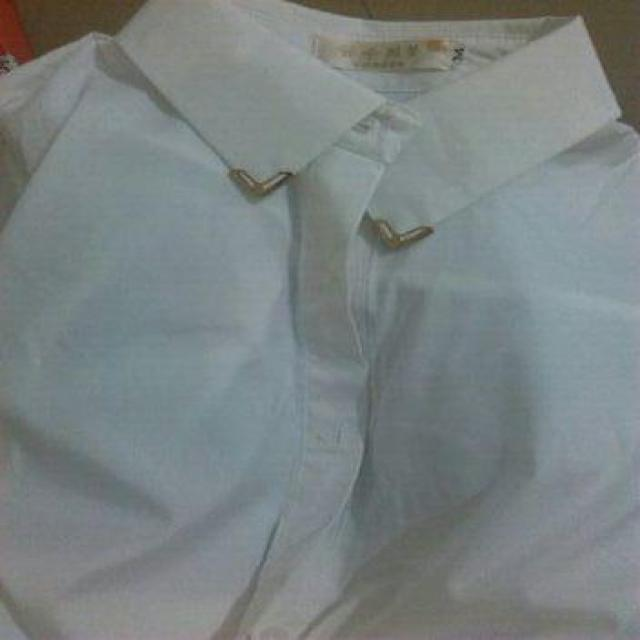long sleeve top: (2, 3, 638, 637)
